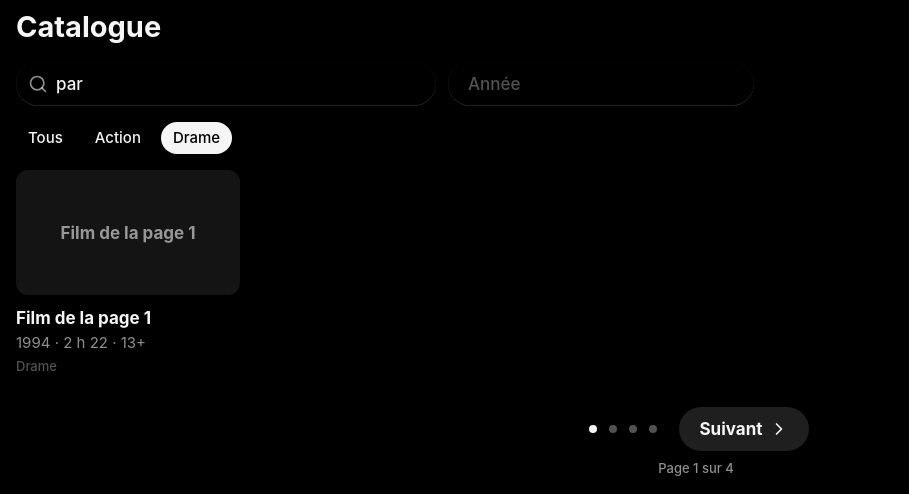
filtres du catalogue (spec 09) › garde les filtres en changeant de page
What coordinates should you click on to do the following:
click the link "Suivant"
I would click on:
 (744, 429)
Its box is x1=680 y1=407 x2=808 y2=451.
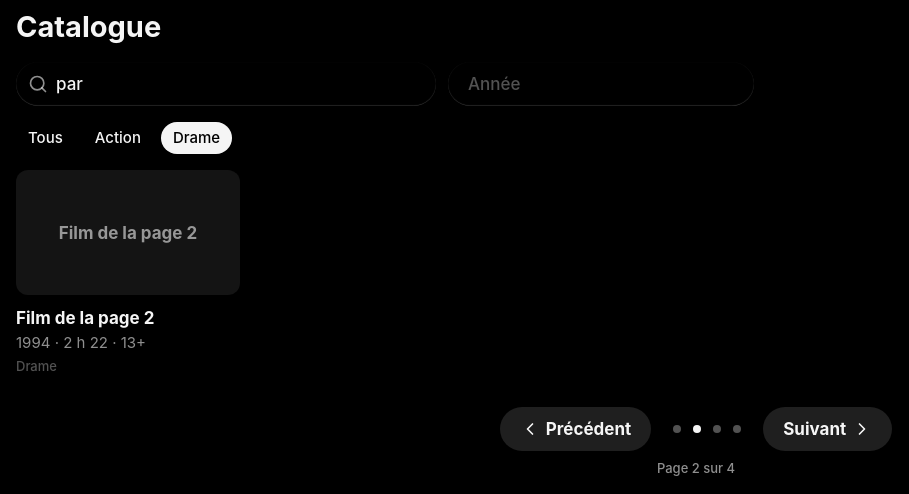
Check: the text "Page 2 sur 4" is shown, box x1=657 y1=459 x2=735 y2=477
What coordinates should you click on to do the following:
click the link "Précédent"
I would click on:
 (576, 429)
Its box is x1=500 y1=407 x2=651 y2=451.
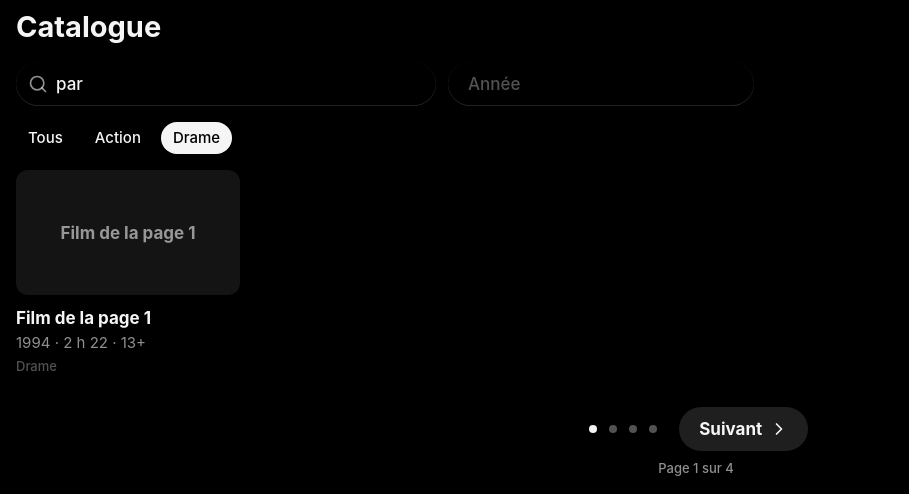
Check: the text "Page 1 sur 4" is shown, box x1=658 y1=459 x2=734 y2=477
What coordinates should you click on to do the following:
click the button named "Page 4"
I would click on:
 (654, 429)
Its box is x1=644 y1=415 x2=664 y2=443.
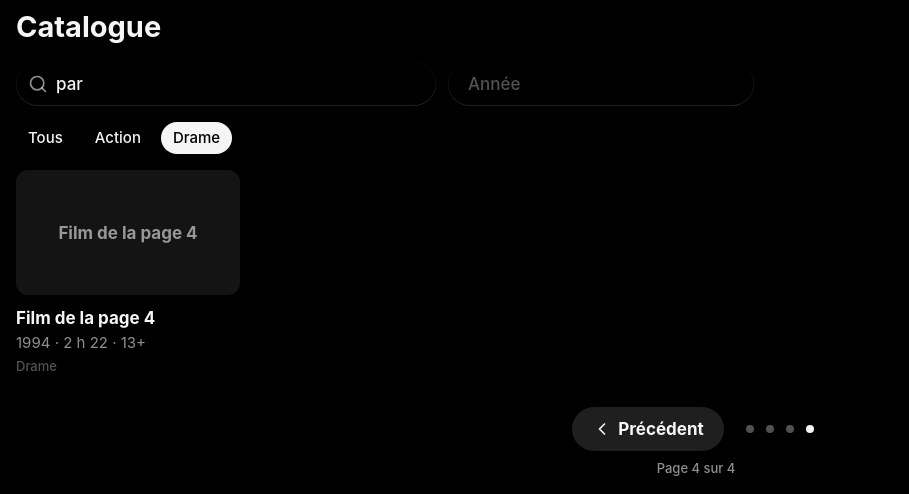
Check: the text "Page 4 sur 4" is shown, box x1=657 y1=459 x2=735 y2=477
